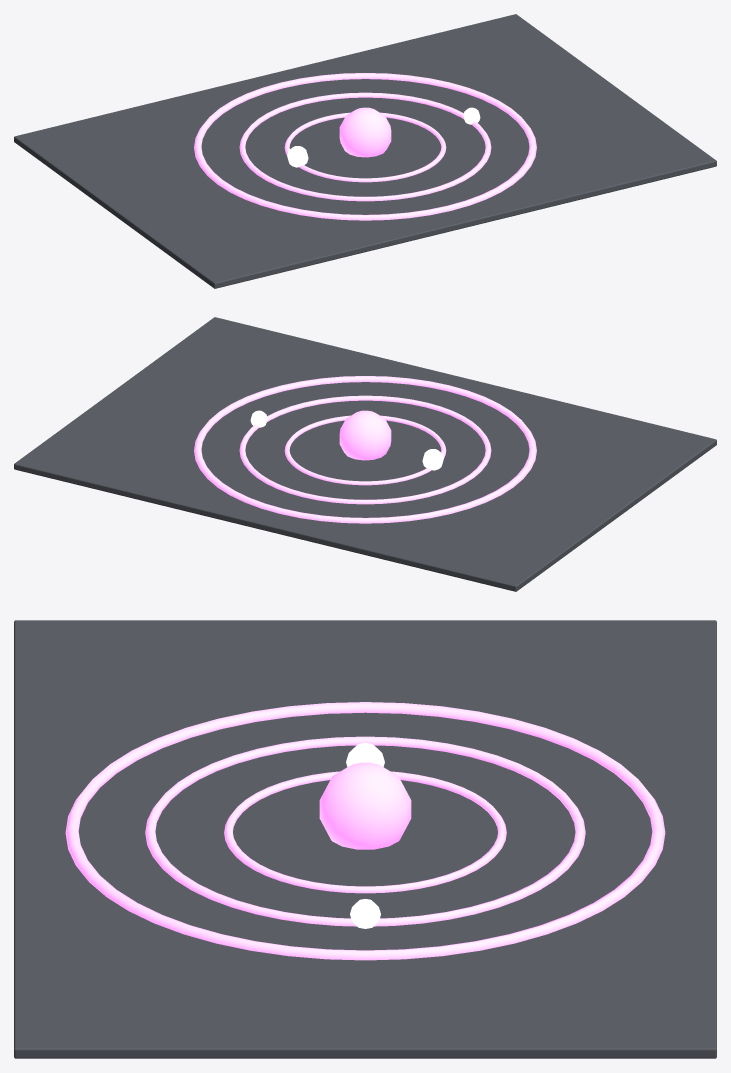
The model's file is rug_orbit_rings.glb.
3 renders of one model, top to bottom at view 1: azimuth 30°, elevation 25°; view 2: azimuth 150°, elevation 25°; view 3: azimuth 270°, elevation 25°, orthographic. The views are drawn at different scales.
Parts seen in each view (by area): view 1: GD_rug_orbit_rings__m0, GD_rug_orbit_rings__m1, GD_rug_orbit_rings__m2; view 2: GD_rug_orbit_rings__m0, GD_rug_orbit_rings__m1, GD_rug_orbit_rings__m2; view 3: GD_rug_orbit_rings__m0, GD_rug_orbit_rings__m1, GD_rug_orbit_rings__m2.
Part boxes in pixels (x1,y1,x2,y2): GD_rug_orbit_rings__m0: (14,14,716,288); GD_rug_orbit_rings__m1: (194,73,536,220); GD_rug_orbit_rings__m2: (287,107,480,167); GD_rug_orbit_rings__m0: (14,317,716,591); GD_rug_orbit_rings__m1: (194,376,536,523); GD_rug_orbit_rings__m2: (250,410,443,470); GD_rug_orbit_rings__m0: (14,620,716,1058); GD_rug_orbit_rings__m1: (65,702,665,960); GD_rug_orbit_rings__m2: (346,743,384,928).
Bounding box in the file's own units: 2.6 × 0.24 × 1.8.
